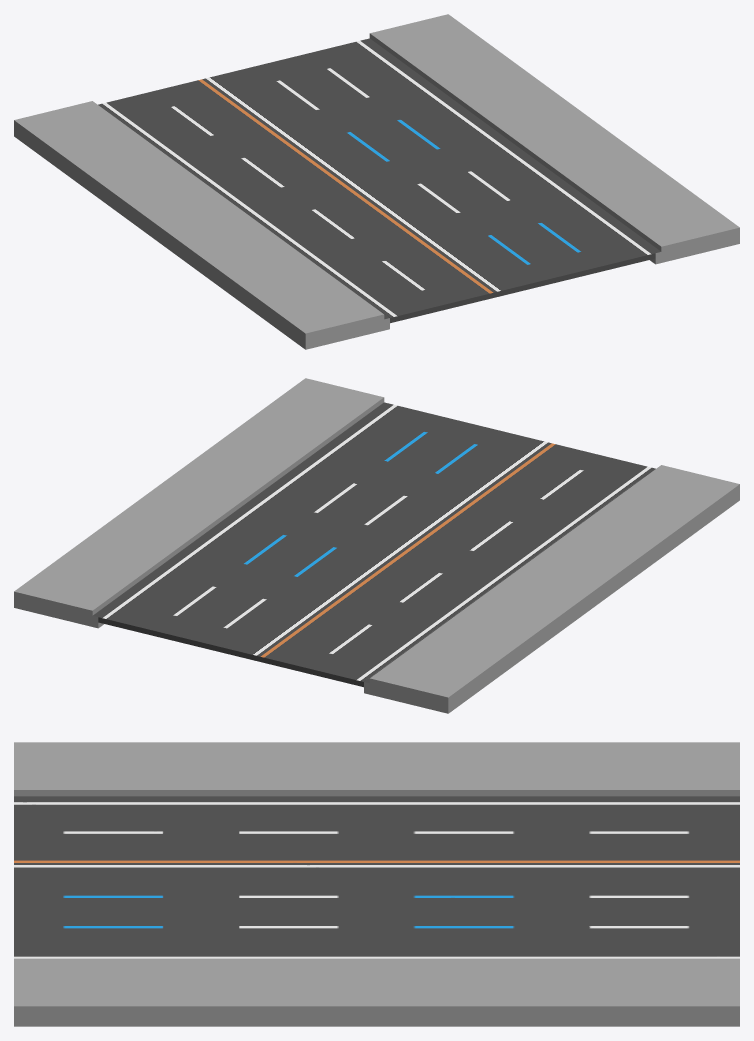
The model's file is tile_road_5_2.fbx.
3 views of the same model, one above another, from view 1: azimuth 30°, elevation 25°; view 2: azimuth 150°, elevation 25°; view 3: azimuth 270°, elevation 25° (orthographic). The views are drawn at different scales.
Visible parts, largest first — view 1: road_5_2, sidewalk_L, sidewalk_R; view 2: road_5_2, sidewalk_L, sidewalk_R; view 3: road_5_2, sidewalk_R, sidewalk_L.
Boxes of the visible parts, bbox=[...] form: road_5_2: bbox=[98, 40, 655, 323]; sidewalk_L: bbox=[14, 101, 389, 349]; sidewalk_R: bbox=[364, 14, 739, 264]; road_5_2: bbox=[98, 404, 655, 687]; sidewalk_L: bbox=[364, 465, 739, 713]; sidewalk_R: bbox=[14, 378, 389, 628]; road_5_2: bbox=[14, 800, 739, 958]; sidewalk_R: bbox=[14, 958, 739, 1026]; sidewalk_L: bbox=[14, 742, 739, 799].
Size of the model in its own units: 2972 by 107 by 3455.
3 materials, 3 textured.
